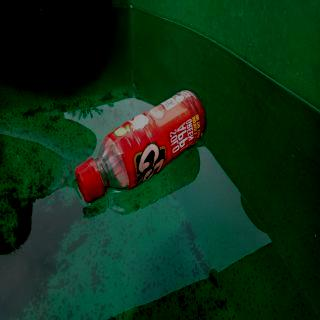bottle: (74, 88, 207, 205)
